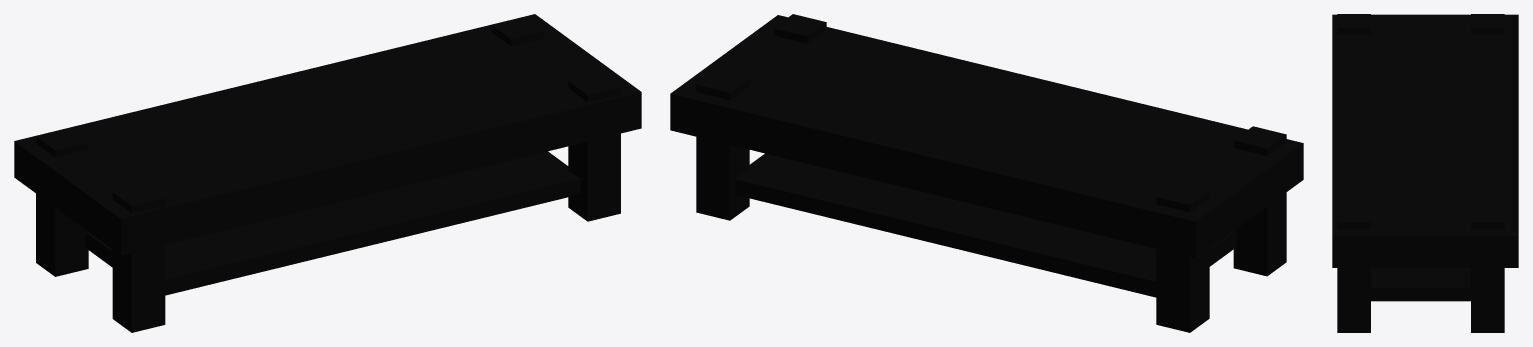
Rendered from CoffeeTable.fbx.
The picture shows the model from 3 angles, left to right: view 1: azimuth 30°, elevation 25°; view 2: azimuth 150°, elevation 25°; view 3: azimuth 270°, elevation 25°; orthographic projection. The views are drawn at different scales.
Parts seen in each view (by area): view 1: node_id5; view 2: node_id5; view 3: node_id5.
Part boxes in pixels (<box>): node_id5: <box>14,14,641,332</box>; node_id5: <box>670,14,1303,332</box>; node_id5: <box>1332,14,1518,332</box>.
Bounding box in the file's own units: 0.512 × 0.119 × 0.1816.
1 material, 1 textured.
